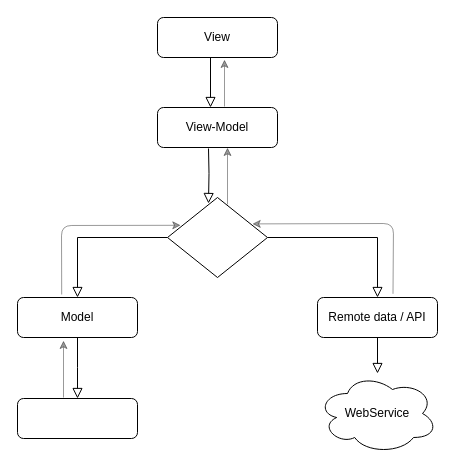
Image size: 455x471. Some labels were removed from this diagram. Here are the shapes that lost their labels. From the top down, the centre of each, then its label:
(x=217, y=237): Repository
(x=77, y=418): DB / Redux store
